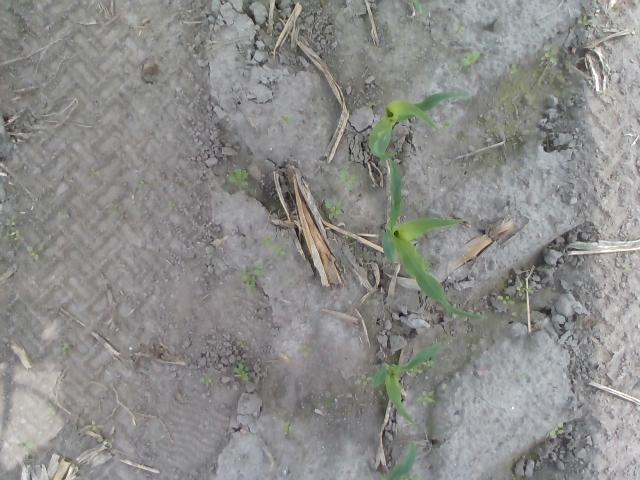Maize: (382, 156, 492, 322), (368, 91, 472, 158), (371, 342, 446, 426), (383, 440, 419, 480)
Weeds: (241, 266, 267, 292), (84, 420, 110, 442), (407, 359, 433, 378), (5, 217, 22, 243), (337, 168, 358, 188), (461, 50, 481, 70), (416, 390, 437, 408), (226, 168, 249, 184), (324, 203, 343, 220), (105, 204, 123, 221), (243, 238, 276, 247), (541, 46, 557, 64), (234, 363, 249, 382), (26, 244, 46, 258), (498, 296, 518, 310), (514, 284, 534, 297), (548, 424, 564, 440), (15, 442, 38, 452), (411, 0, 424, 15), (302, 344, 315, 358), (199, 374, 213, 386), (355, 376, 370, 387), (233, 340, 247, 350), (281, 115, 293, 126), (276, 246, 286, 258), (578, 18, 592, 26), (506, 64, 518, 73), (282, 420, 291, 432), (90, 166, 100, 176), (60, 344, 68, 356), (135, 178, 144, 188), (456, 26, 466, 34), (168, 199, 175, 210), (64, 212, 70, 219)
